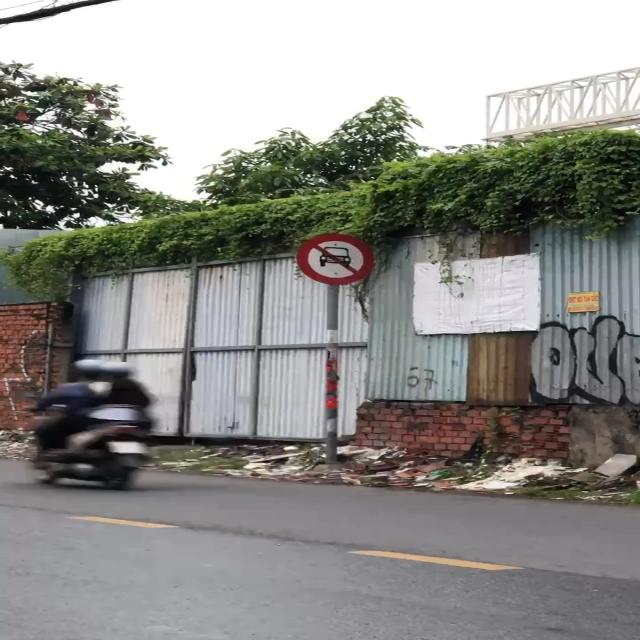Bien bao cam xe oto: (290, 231, 380, 283)
